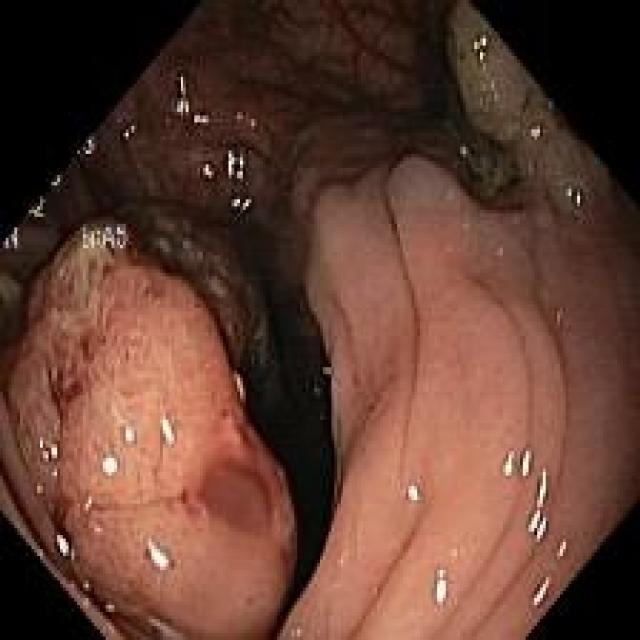Polyps: (8, 231, 296, 638)
